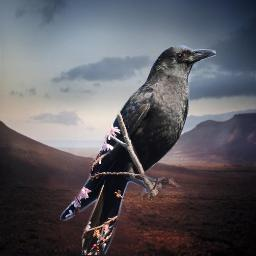Crow: (60, 44, 216, 255)
